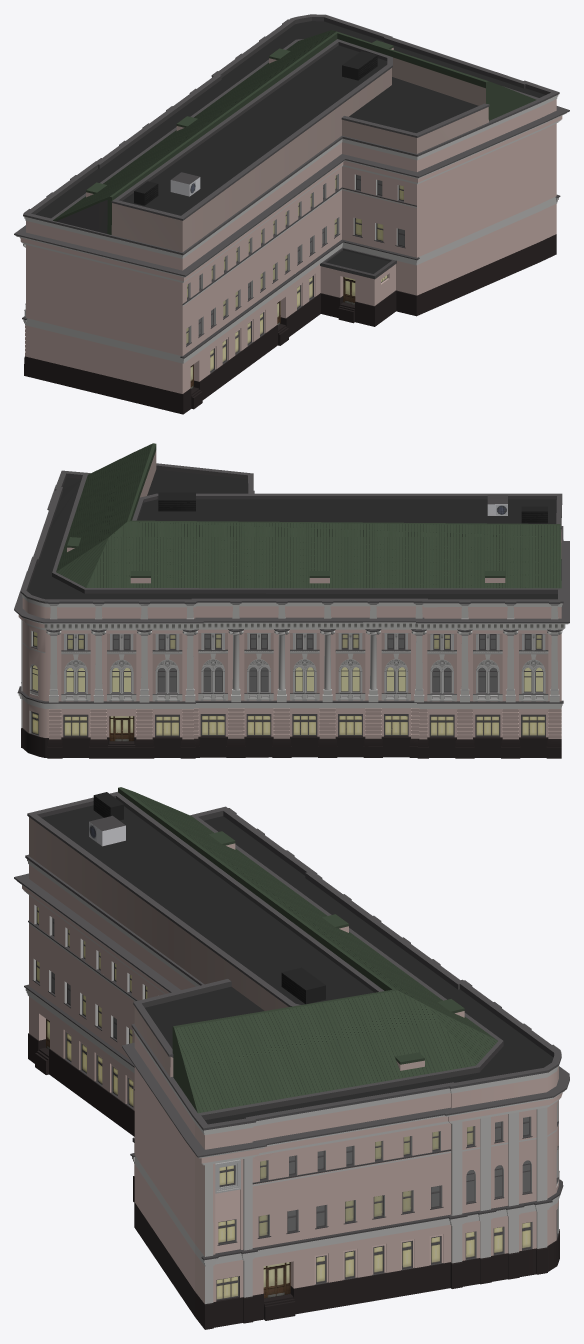
Rendered from houseForStreet7.FBX.
3 renders of one model, top to bottom at view 1: azimuth 30°, elevation 25°; view 2: azimuth 150°, elevation 25°; view 3: azimuth 270°, elevation 25°, orthographic. The views are drawn at different scales.
Visible parts, largest first — view 1: 01080-50@28948; view 2: 01080-50@28948; view 3: 01080-50@28948.
Boxes of the visible parts, x1=… form: 01080-50@28948: x1=14, y1=14, x2=569, y2=414; 01080-50@28948: x1=14, y1=443, x2=569, y2=758; 01080-50@28948: x1=14, y1=787, x2=569, y2=1329.
Bounding box in the file's own units: 67.14 × 24.18 × 47.54.
Materials: 1 (1 with a texture image).
